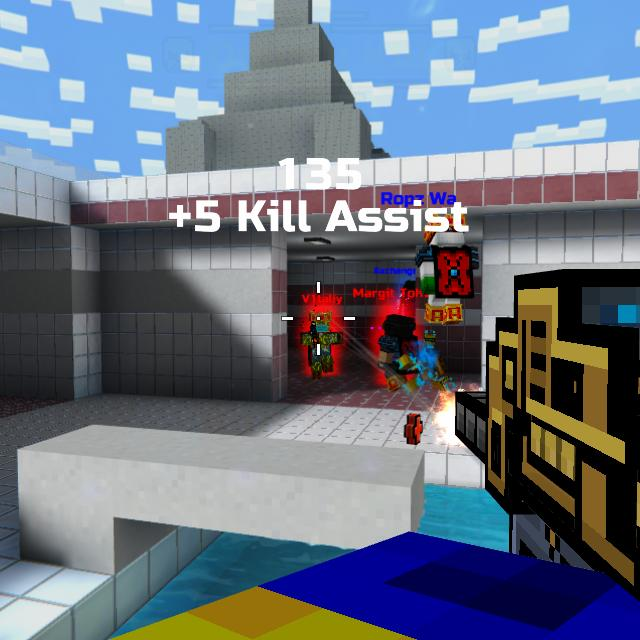Enemy: (377, 314, 416, 392), (300, 314, 343, 380)
